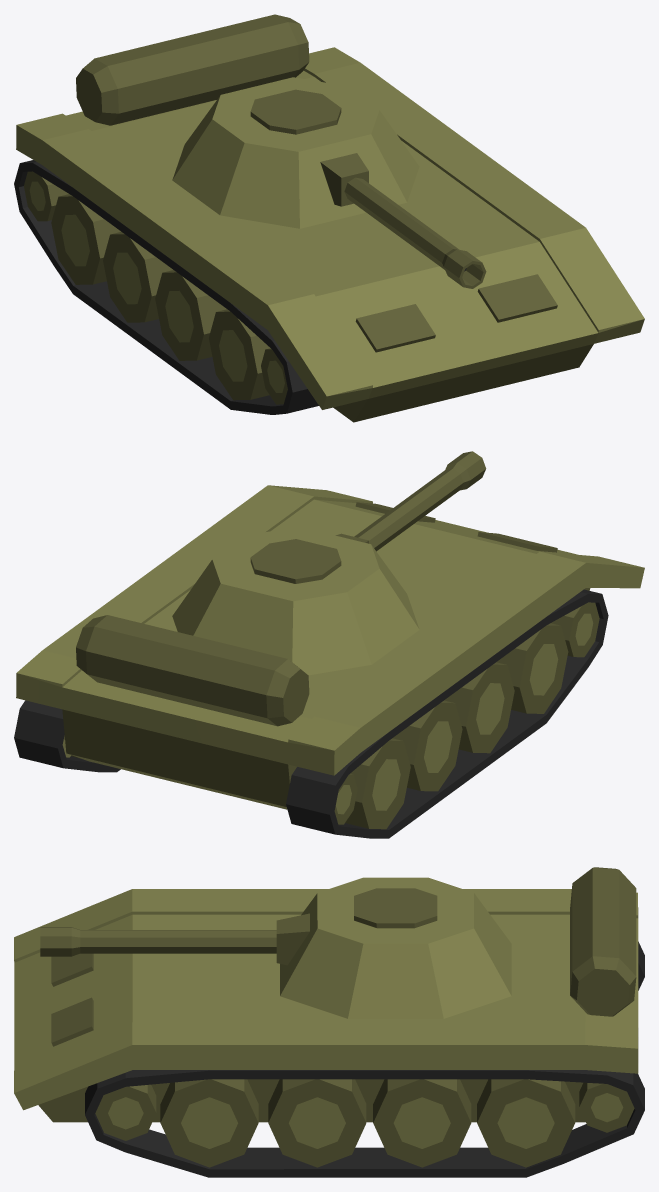
Rendered from Tank_01.fbx.
3 renders of one model, top to bottom at view 1: azimuth 30°, elevation 25°; view 2: azimuth 150°, elevation 25°; view 3: azimuth 270°, elevation 25°, orthographic.
Parts seen in each view (by area): view 1: Tank_01, Tank_01_Turret, Tank_01_Barrel, Tank_01_Wheel.06; view 2: Tank_01, Tank_01_Turret, Tank_01_Wheel.06, Tank_01_Barrel; view 3: Tank_01, Tank_01_Turret, Tank_01_Barrel.
Boxes of the visible parts, box(x1,y1,x2,y2) form: Tank_01: box(14, 14, 644, 422); Tank_01_Turret: box(172, 77, 419, 228); Tank_01_Barrel: box(320, 153, 486, 288); Tank_01_Wheel.06: box(155, 270, 226, 360); Tank_01: box(14, 485, 644, 838); Tank_01_Turret: box(172, 526, 419, 675); Tank_01_Wheel.06: box(444, 662, 514, 753); Tank_01_Barrel: box(335, 451, 486, 551); Tank_01: box(14, 867, 644, 1177); Tank_01_Turret: box(280, 877, 511, 1018); Tank_01_Barrel: box(40, 913, 309, 965).
Bounding box in the file's own units: 6.52 × 3.79 × 11.14.
